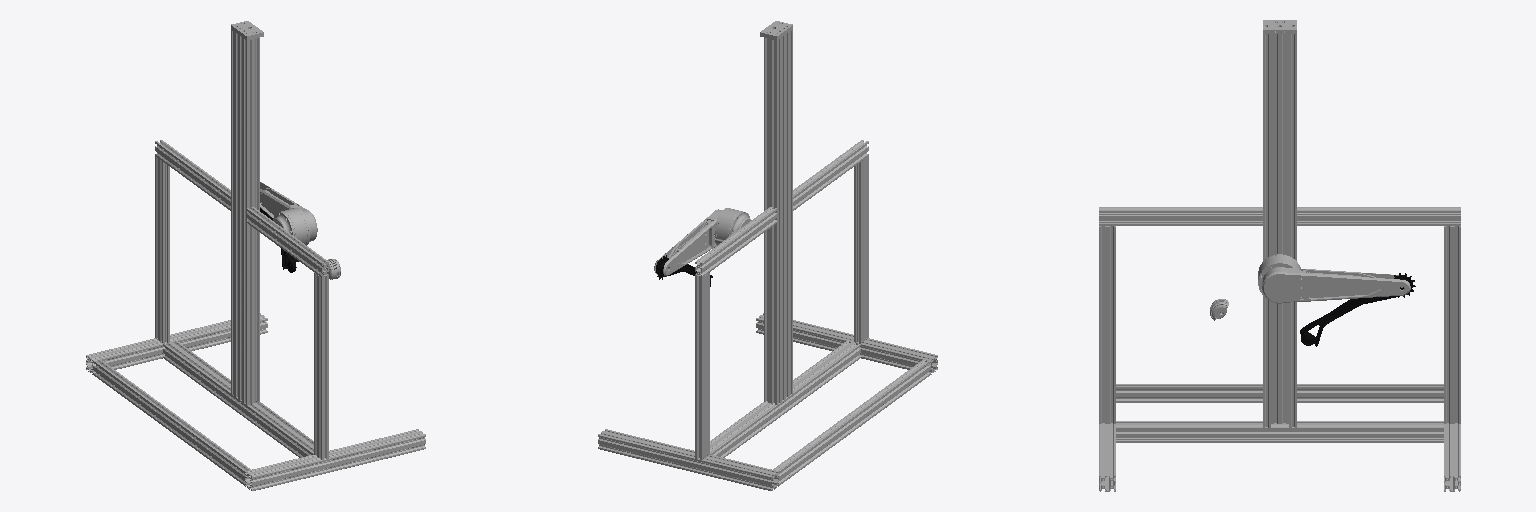
URDF robot description (Leg):
<?xml version="1.0" ?>
<robot name="Leg">

<material name="silver">
  <color rgba="0.700 0.700 0.700 1.000"/>
</material>

<material name="black">
  <color rgba="0.100 0.100 0.100 1.000"/>
</material>

<link name="base_link">
  <inertial>
    <origin rpy="0 0 0" xyz="-0.04286515375447262 0.034667099417527505 0.2727933196007633"/>
    <mass value="7.087381218913908"/>
    <inertia ixx="1.2103659049128583" ixy="-0.010479469441884074" ixz="-0.015200771845420832" iyy="0.7568347193957309" iyz="0.06179568302961073" izz="0.5869748924777652"/>
  </inertial>
  <visual>
    <origin rpy="0 0 0" xyz="0 0 0"/>
    <geometry>
      <mesh filename="meshes/base_link.stl" scale="0.001 0.001 0.001"/>
    </geometry>
    <material name="silver"/>
  </visual>
  <collision>
    <origin rpy="0 0 0" xyz="0 0 0"/>
    <geometry>
      <box size="1.440 1.260 0.140"/>
    </geometry>
  </collision>
</link>

<link name="HFE_Actuator1">
  <inertial>
    <origin rpy="0 0 0" xyz="0.020090606278027796 1.1368775533237852e-05 -0.0003192040040483901"/>
    <mass value="0.7810510004823594"/>
    <inertia ixx="0.0016437432732659685" ixy="2.3787591764818823e-07" ixz="2.5953809840491976e-06" iyy="0.000960102374603089" iyz="1.5892967806502138e-08" izz="0.0009409226920320034"/>
  </inertial>
  <visual>
    <origin rpy="0 0 0" xyz="-0.02 -0.000173 -0.470025"/>
    <geometry>
      <mesh filename="meshes/HFE_Actuator1.dae" scale="1.001 1.001 1.001"/>
    </geometry>
  </visual>
  <!-- <collision>
    <origin rpy="0 0 0" xyz="-0.02 -0.000173 -0.470025"/>
    <geometry>
      <mesh filename="meshes/HFE_Actuator1.stl" scale="0.001 0.001 0.001"/>
    </geometry>
  </collision> -->
</link>

<link name="KFE_Actuator1">
  <inertial>
    <origin rpy="0 0 0" xyz="0.03649614210210743 -0.0004167928095349341 0.0003681581192908068"/>
    <mass value="0.8552943466477122"/>
    <inertia ixx="0.0017410880733711998" ixy="-1.7513876421998258e-05" ixz="7.081537317585318e-06" iyy="0.0010632034634895648" iyz="-1.0058059950756074e-07" izz="0.0010633747722274926"/>
  </inertial>
  <visual>
    <origin rpy="0 0 0" xyz="-0.063 -0.000173 -0.470025"/>
    <geometry>
      <mesh filename="meshes/KFE_Actuaor1.stl" scale="0.001 0.001 0.001"/>
    </geometry>
    <material name="silver"/>
  </visual>
  <!-- <collision>
    <origin rpy="0 0 0" xyz="-0.063 -0.000173 -0.470025"/>
    <geometry>
      <mesh filename="meshes/KFE_Actuaor1.stl" scale="0.001 0.001 0.001"/>
    </geometry>
  </collision> -->
</link>

<link name="Upper_Leg1">
  <inertial>
    <origin rpy="0 0 0" xyz="0.017333214055653468 0.10592284205027887 -9.729720034751255e-05"/>
    <mass value="0.48935201093235564"/>
    <inertia ixx="0.004410723083100324" ixy="3.7287894585369755e-05" ixz="-3.4083010400087765e-08" iyy="0.0002997224782418373" iyz="3.5969845314717808e-06" izz="0.004234924211716114"/>
  </inertial>
  <visual>
    <origin rpy="0 0 0" xyz="-0.123 -0.000173 -0.470227"/>
    <geometry>
      <mesh filename="meshes/Upper_Leg1.stl" scale="0.001 0.001 0.001"/>
    </geometry>
    <material name="silver"/>
  </visual>
  <!-- <collision>
    <origin rpy="0 0 0" xyz="-0.123 -0.000173 -0.470227"/>
    <geometry>
      <mesh filename="meshes/Upper_Leg1.stl" scale="0.001 0.001 0.001"/>
    </geometry>
  </collision> -->
</link>

<link name="Lower_Leg1">
  <inertial>
    <origin rpy="0 0 0" xyz="-2.974421137169614e-08 -0.10050455589816557 -0.05215411402729847"/>
    <mass value="0.2372759399190525"/>
    <inertia ixx="0.0018940728107995422" ixy="-9.038791538157342e-10" ixz="-7.235259058546717e-10" iyy="0.0004932824954085868" iyz="-0.0007845222120124173" izz="0.001415641213436375"/>
  </inertial>
  <visual>
    <origin rpy="0 0 0" xyz="-0.1395 -0.280173 -0.469971"/>
    <geometry>
      <mesh filename="meshes/Lower_Leg1.stl" scale="0.001 0.001 0.001"/>
    </geometry>
    <material name="black"/>
  </visual>
  <!-- <collision>
    <origin rpy="0 0 0" xyz="-0.1395 -0.280173 -0.469971"/>
    <geometry>
      <mesh filename="meshes/Lower_Leg1.stl" scale="0.001 0.001 0.001"/>
    </geometry>
  </collision> -->
</link>

<link name="Slider_Plate1">
  <inertial>
    <origin rpy="0 0 0" xyz="-0.0014706845703063385 0.00030798756510659034 -3.4098044326968946e-07"/>
    <mass value="0.22856712723152553"/>
    <inertia ixx="0.0006014764758451724" ixy="-5.0920081315763624e-08" ixz="-2.168404344971009e-19" iyy="0.00030091688848923187" iyz="-1.2638409199391964e-16" izz="0.0003018984205997719"/>
  </inertial>
  <visual>
    <origin rpy="0 0 0" xyz="0.005 -0.000173 -0.470025"/>
    <geometry>
      <mesh filename="meshes/Slider_Plate1.stl" scale="0.001 0.001 0.001"/>
    </geometry>
    <material name="silver"/>
  </visual>
  <!-- <collision>
    <origin rpy="0 0 0" xyz="0.005 -0.000173 -0.470025"/>
    <geometry>
      <mesh filename="meshes/Slider_Plate1.stl" scale="0.001 0.001 0.001"/>
    </geometry>
  </collision> -->
</link>

<link name="Foot1">
  <inertial>
    <origin rpy="0 0 0" xyz="-0.0024998859055090084 -0.0062786821823827554 -0.007559708982423974"/>
    <mass value="0.027943298489902197"/>
    <inertia ixx="6.619251468566265e-06" ixy="1.0254211650802258e-11" ixz="1.7933025073593734e-11" iyy="5.0362264019591756e-06" iyz="1.3015680063696881e-06" izz="5.555334328772102e-06"/>
  </inertial>
  <visual>
    <origin rpy="0 0 0" xyz="-0.142 -0.065555 -0.336556"/>
    <geometry>
      <mesh filename="meshes/Foot1.stl" scale="0.001 0.001 0.001"/>
    </geometry>
    <material name="silver"/>
  </visual>
  <collision>
    <origin rpy="0 0 0" xyz="-0.142 -0.065555 -0.336556"/>
    <geometry>
      <mesh filename="meshes/Foot1.stl" scale="0.001 0.001 0.001"/>
    </geometry>
  </collision>
</link>

<joint name="slider_to_hip" type="fixed">
  <origin rpy="0 0 0" xyz="0.025 0.0 0.0"/>
  <parent link="Slider_Plate1"/>
  <child link="HFE_Actuator1"/>
</joint>

<joint name="j_hfe" type="continuous">
  <origin rpy="0 0 0" xyz="0.043 0.0 0.0"/>
  <parent link="HFE_Actuator1"/>
  <child link="KFE_Actuator1"/>
  <axis xyz="-1.0 0.0 -0.0"/>
</joint>

<joint name="hfe_to_upper" type="fixed">
  <origin rpy="0 0 0" xyz="0.06 0.0 0.000202"/>
  <parent link="KFE_Actuator1"/>
  <child link="Upper_Leg1"/>
</joint>

<joint name="j_kfe" type="continuous">
  <origin rpy="0 0 0" xyz="0.0165 0.28 -0.000256"/>
  <parent link="Upper_Leg1"/>
  <child link="Lower_Leg1"/>
  <axis xyz="-1.0 -0.0 0.0"/>
</joint>

<joint name="slider" type="prismatic">
  <origin rpy="0 0 0" xyz="-0.005 0.000173 0.470025"/>
  <parent link="base_link"/>
  <child link="Slider_Plate1"/>
  <axis xyz="0.0 -0.0 1.0"/>
  <limit effort="100" lower="0.0" upper="0.0" velocity="100"/>
</joint>

<joint name="j_foot" type="fixed">
  <origin rpy="0 0 0" xyz="0.0025 -0.214618 -0.133415"/>
  <parent link="Lower_Leg1"/>
  <child link="Foot1"/>
</joint>

</robot>

--- What the picture shows (computed from the rendered views, not written in the file) ---
The picture shows the robot from 3 angles, left to right: view 1: azimuth 30°, elevation 25°; view 2: azimuth 150°, elevation 25°; view 3: azimuth 270°, elevation 25°; orthographic projection.
Model Leg with 7 links and 6 joints (2 continuous, 1 prismatic, 3 fixed), rooted at base_link, posed every joint at zero.
Links seen in each view (by area): view 1: base_link, Upper_Leg1, KFE_Actuator1; view 2: base_link, Upper_Leg1, KFE_Actuator1; view 3: base_link, Upper_Leg1, Lower_Leg1.
Link boxes in pixels (x1,y1,x2,y2): base_link: [86, 21, 425, 490]; Upper_Leg1: [260, 182, 317, 245]; KFE_Actuator1: [272, 208, 308, 245]; base_link: [598, 21, 937, 490]; Upper_Leg1: [654, 208, 726, 276]; KFE_Actuator1: [715, 208, 751, 245]; base_link: [1099, 20, 1460, 491]; Upper_Leg1: [1258, 263, 1410, 303]; Lower_Leg1: [1300, 273, 1415, 346].
Size in the robot's own frame: 0.5 by 0.83 by 1.05 metres.
5 mesh visuals loaded from 7 distinct referenced files (5 binary STL); not drawn: 2 (reference not matched to a file when rendering).